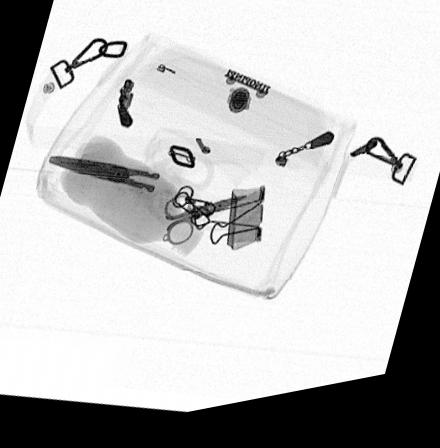Scissors: (44, 156, 216, 230)
